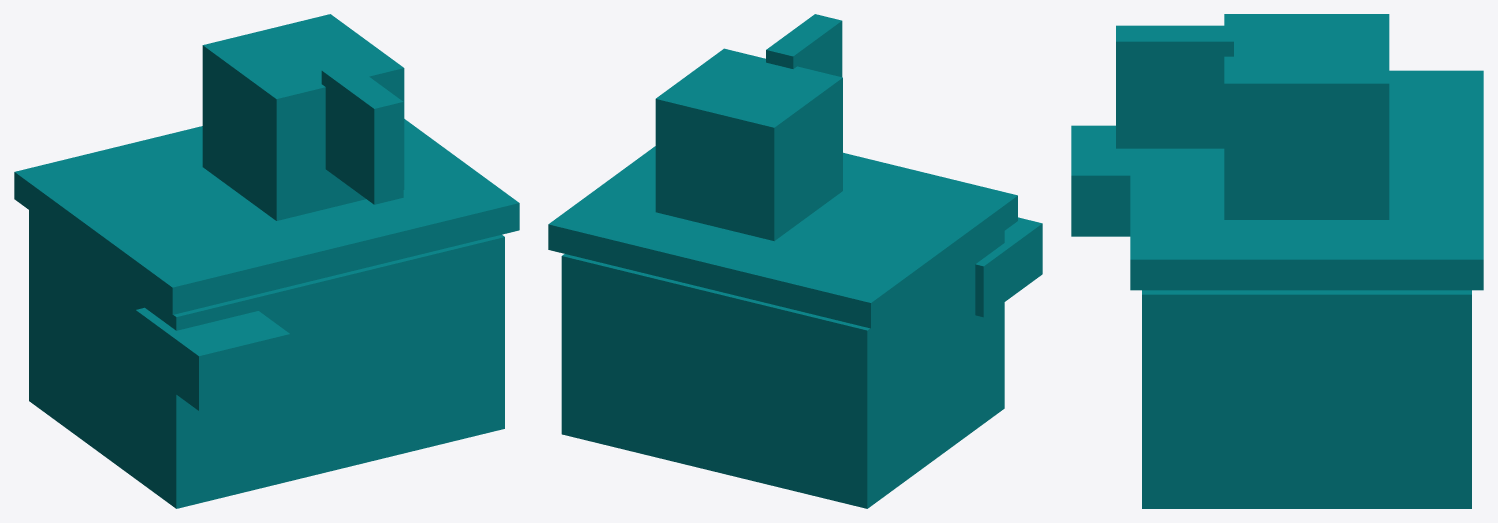
Rendered from cutter.glb.
The picture shows the model from 3 angles, left to right: view 1: azimuth 30°, elevation 25°; view 2: azimuth 150°, elevation 25°; view 3: azimuth 270°, elevation 25°; orthographic projection. The views are drawn at different scales.
Visible parts, largest first — view 1: module.cutter; view 2: module.cutter; view 3: module.cutter.
Boxes of the visible parts, x1,y1,x2,y2 form: module.cutter: (14, 14, 519, 508); module.cutter: (548, 14, 1042, 508); module.cutter: (1071, 14, 1483, 508).
Size of the model in its own units: 1 by 1 by 0.9211.
